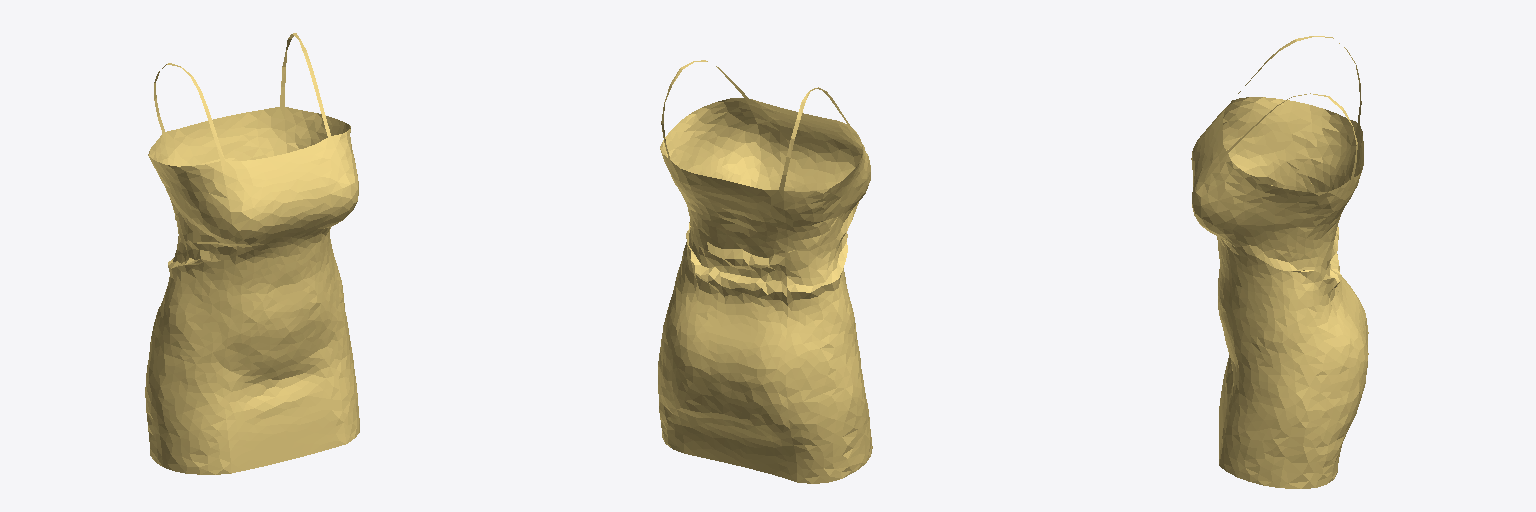
The picture shows the model from 3 angles: view 1: azimuth 30°, elevation 25°; view 2: azimuth 150°, elevation 25°; view 3: azimuth 270°, elevation 25°; orthographic projection.
Parts seen in each view (by area): view 1: medium_beigeBodycon_noinside:polySurface2 medium_beigeBodycon_no; view 2: medium_beigeBodycon_noinside:polySurface2 medium_beigeBodycon_no; view 3: medium_beigeBodycon_noinside:polySurface2 medium_beigeBodycon_no.
Boxes of the visible parts, box(x1,y1,x2,y2) form: medium_beigeBodycon_noinside:polySurface2 medium_beigeBodycon_no: box(145, 33, 359, 474); medium_beigeBodycon_noinside:polySurface2 medium_beigeBodycon_no: box(658, 60, 872, 483); medium_beigeBodycon_noinside:polySurface2 medium_beigeBodycon_no: box(1191, 36, 1368, 488).
Bounding box in the file's own units: 3.7 × 7 × 2.94.
10 materials, 1 textured.